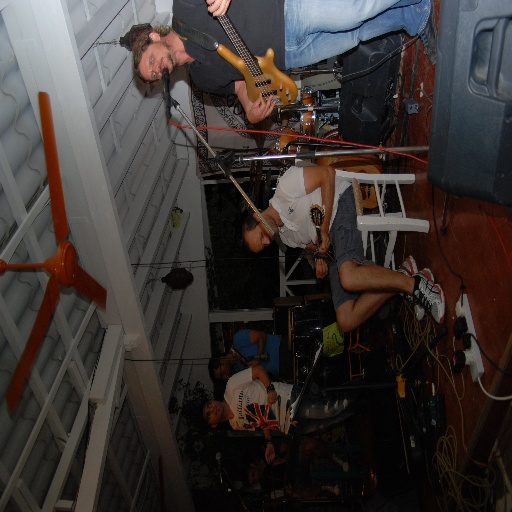hand: (249, 91, 275, 123), (313, 227, 331, 256), (205, 0, 232, 17), (314, 259, 328, 281), (263, 445, 276, 467), (265, 391, 277, 410), (245, 360, 259, 369)
